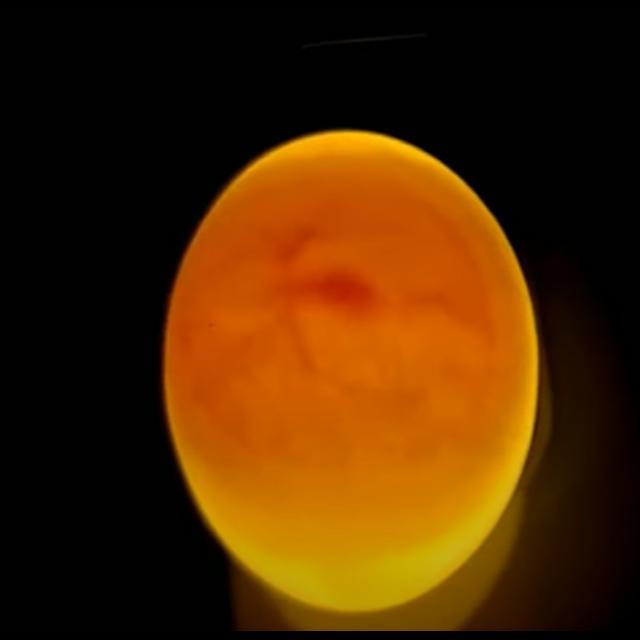Fertile: (144, 118, 552, 620)
